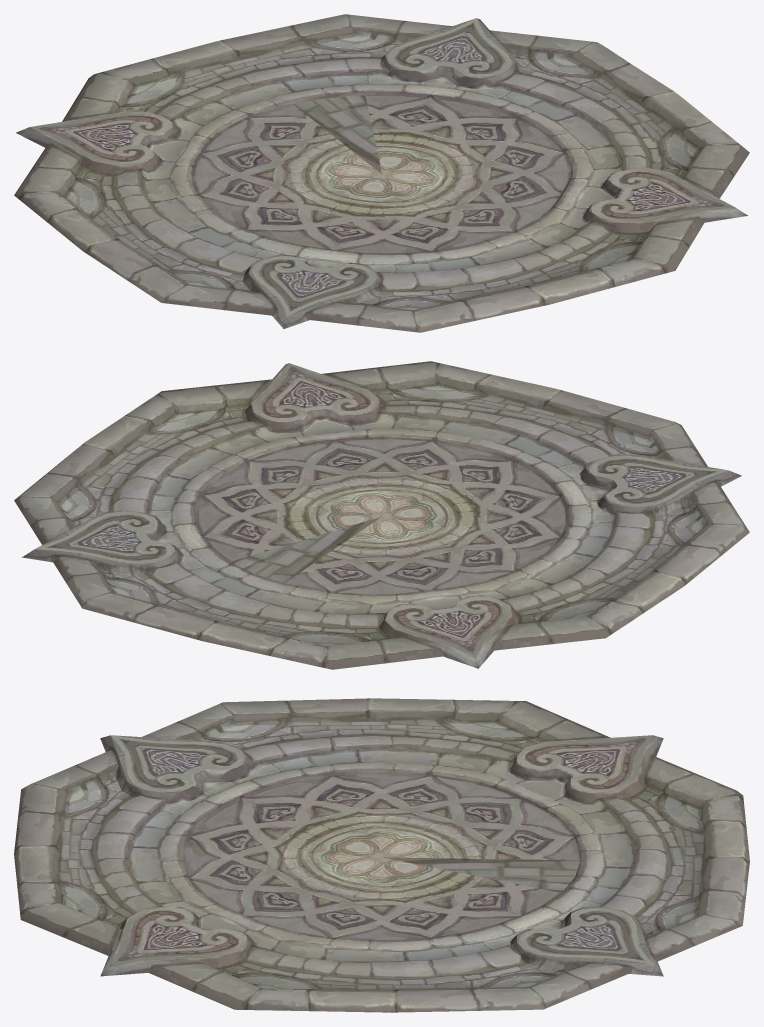
The model's file is cj_xinshou_dihua01_53_55_9497out.fbx.
The picture shows the model from 3 angles, top to bottom: view 1: azimuth 30°, elevation 25°; view 2: azimuth 150°, elevation 25°; view 3: azimuth 270°, elevation 25°; orthographic projection. The views are drawn at different scales.
Parts seen in each view (by area): view 1: cj_xinshou_dihua01; view 2: cj_xinshou_dihua01; view 3: cj_xinshou_dihua01.
Part boxes in pixels (bbox=[...]): cj_xinshou_dihua01: bbox=[14, 14, 749, 332]; cj_xinshou_dihua01: bbox=[14, 361, 749, 669]; cj_xinshou_dihua01: bbox=[14, 698, 749, 1012].
Size of the model in its own units: 6.87 by 0.0848 by 6.87.
